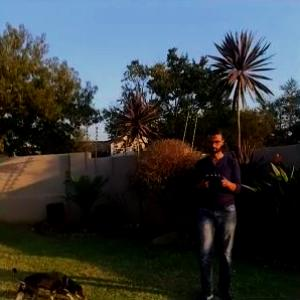follow: (191, 123, 246, 299)
null: (11, 264, 89, 299)
